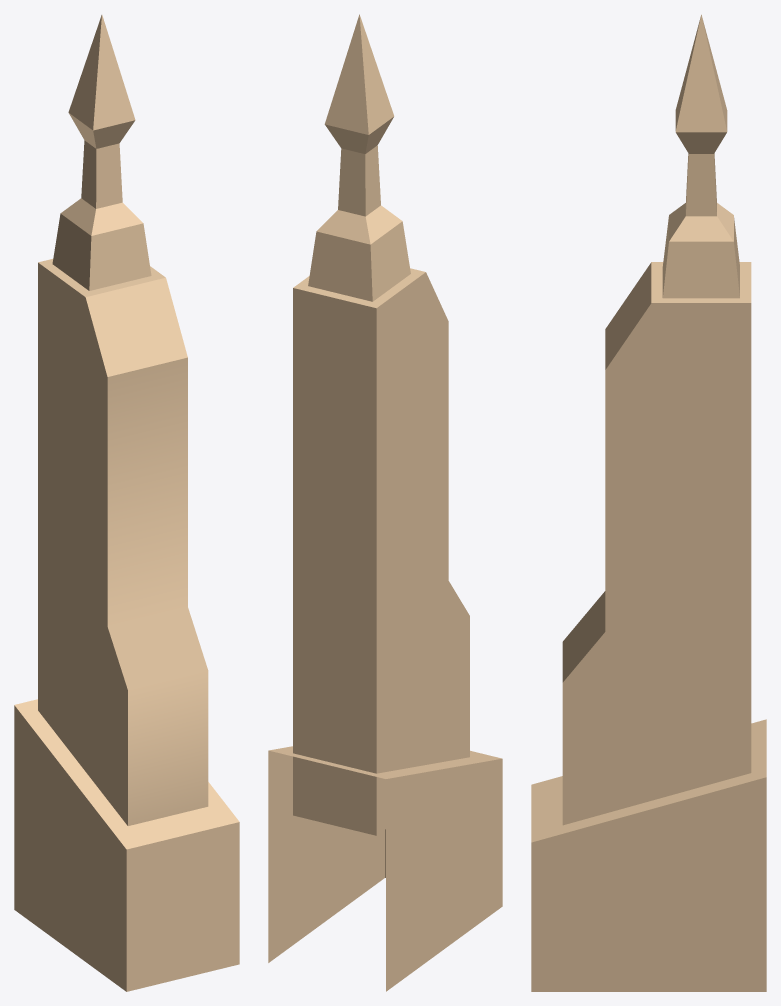
3 renders of one model, left to right at view 1: azimuth 30°, elevation 25°; view 2: azimuth 150°, elevation 25°; view 3: azimuth 270°, elevation 25°, orthographic. The views are drawn at different scales.
Parts seen in each view (by area): view 1: Object21; view 2: Object21; view 3: Object21.
Part boxes in pixels (box(x1,y1,x2,y2)): Object21: box(14, 15, 239, 991); Object21: box(268, 14, 502, 991); Object21: box(531, 14, 766, 991).
Bounding box in the file's own units: 49.18 × 376 × 84.58.
